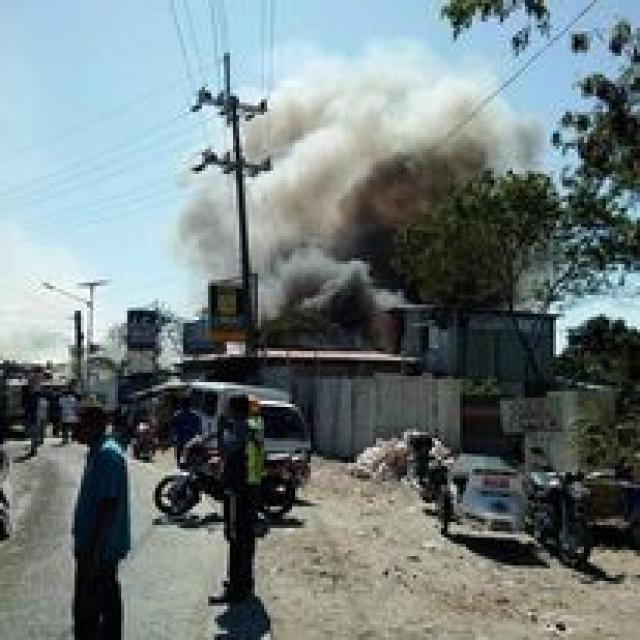Smoke: (169, 43, 554, 342)
